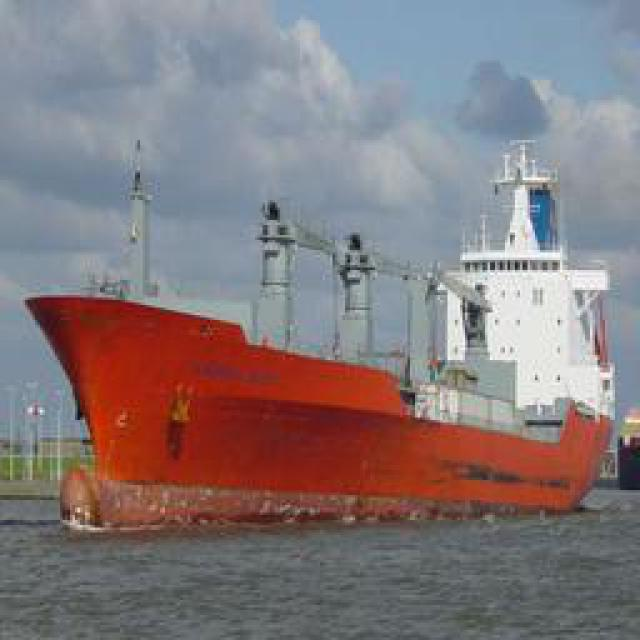Ship: (31, 253, 614, 538)
